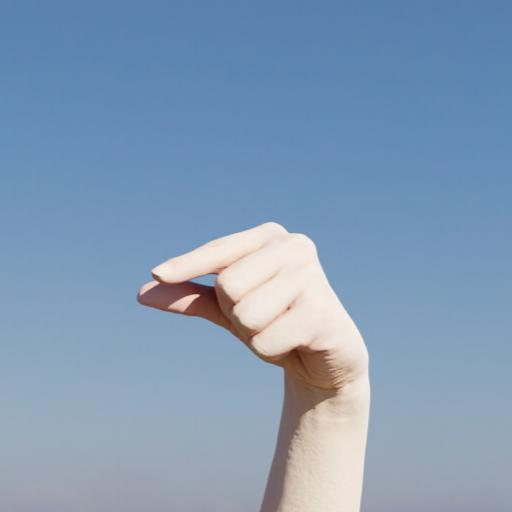G: (122, 194, 386, 512)
